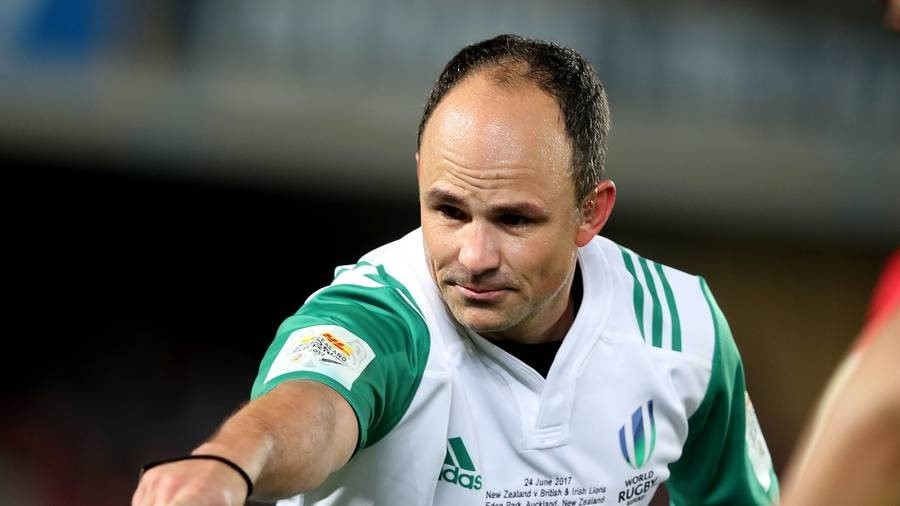face_no_mask: (418, 36, 615, 331)
